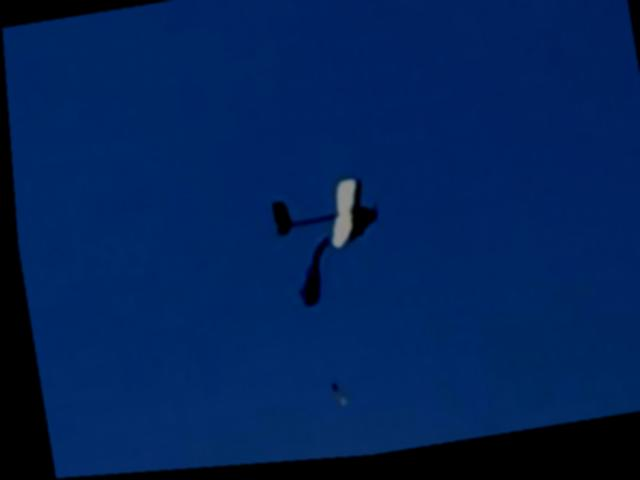uav: (262, 175, 381, 259)
